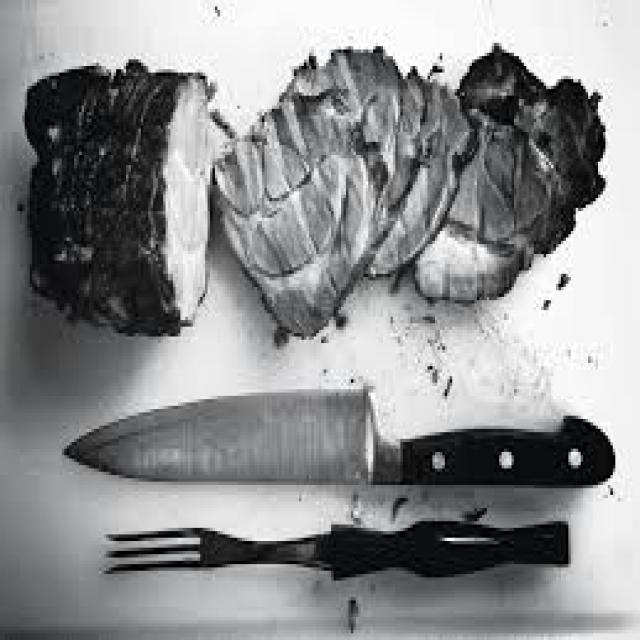Knife: (62, 383, 615, 485), (99, 518, 568, 577)
